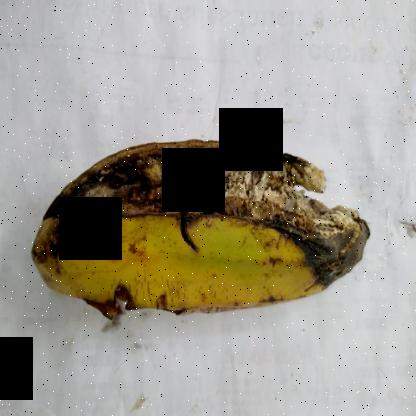rotten: (40, 107, 382, 377)
